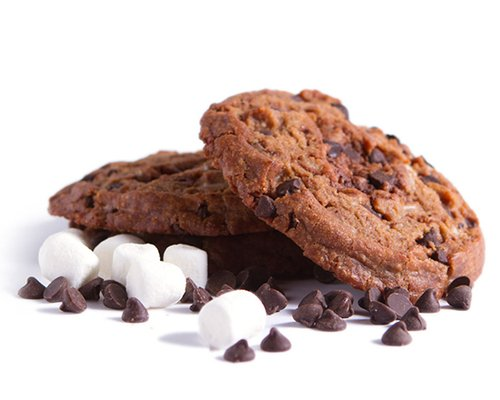sushi: (195, 88, 486, 314)
